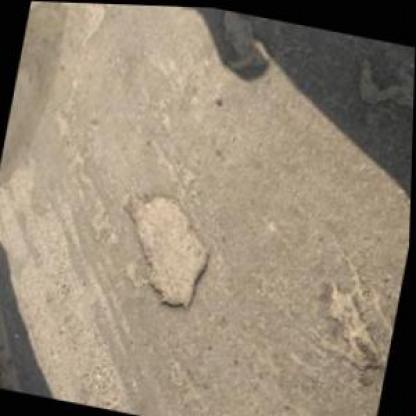pothole: (100, 178, 224, 316), (315, 272, 401, 377)
